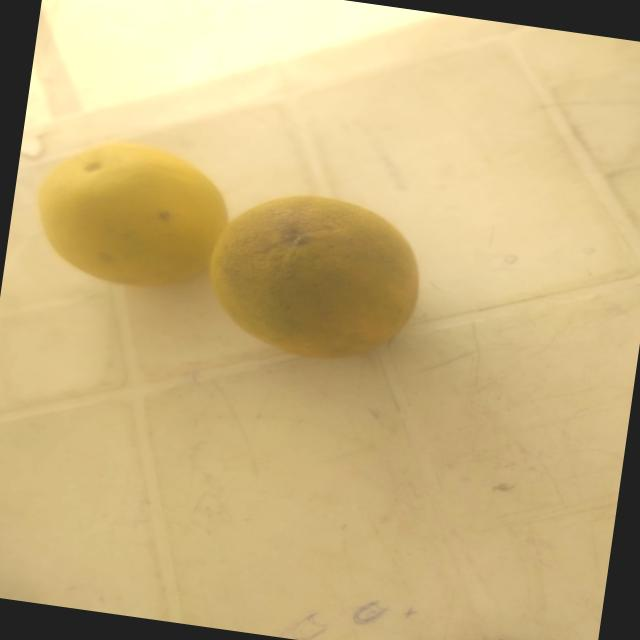Ripe orange: (194, 179, 442, 398), (23, 123, 232, 330)
